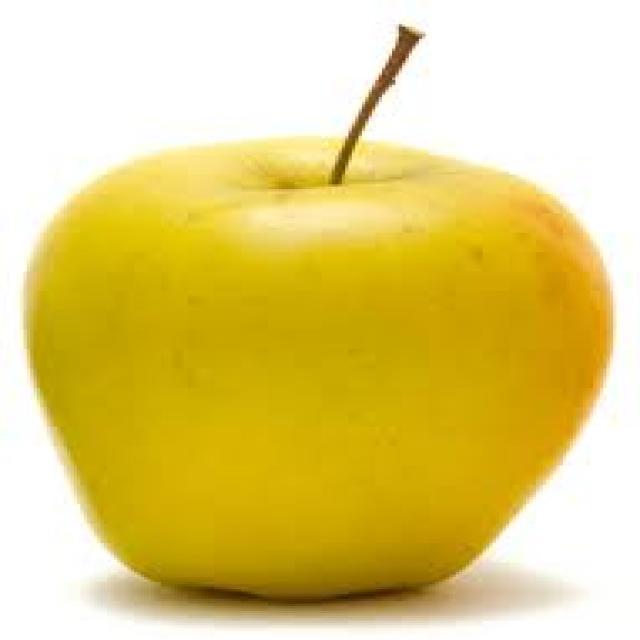apple: (10, 14, 623, 614)
